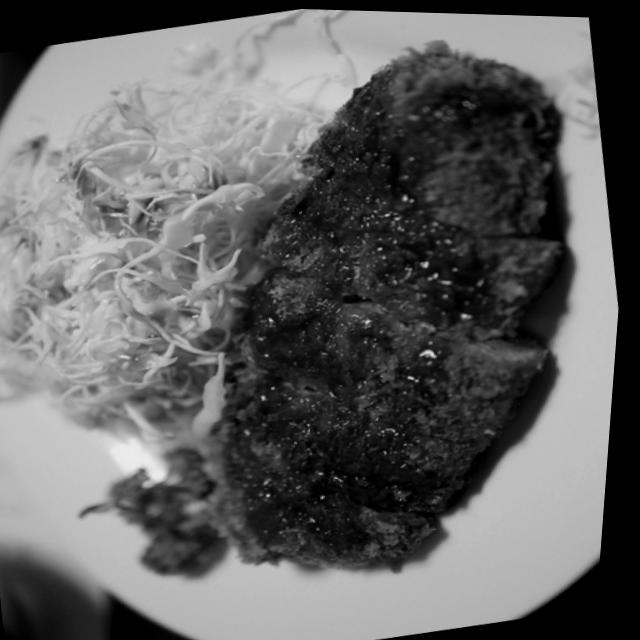牛肉菜式: (72, 3, 640, 638)
